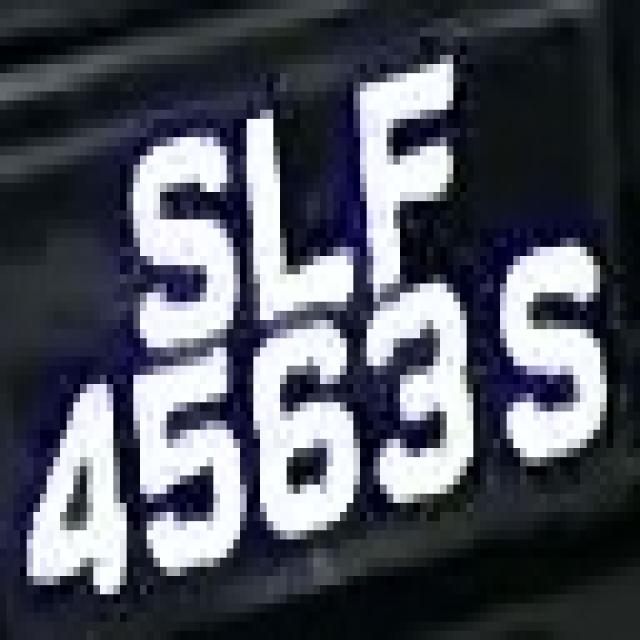3: (360, 256, 480, 521)
4: (0, 357, 140, 612)
5: (106, 338, 246, 585)
6: (240, 265, 360, 540)
F: (327, 55, 480, 283)
L: (220, 91, 353, 320)
S: (106, 128, 266, 347), (480, 219, 613, 466)
